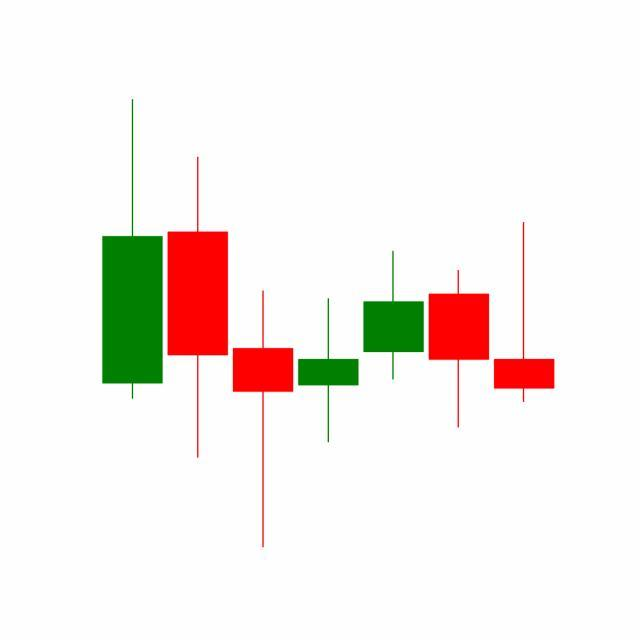Three Outside Up-Down: (360, 220, 556, 430)
